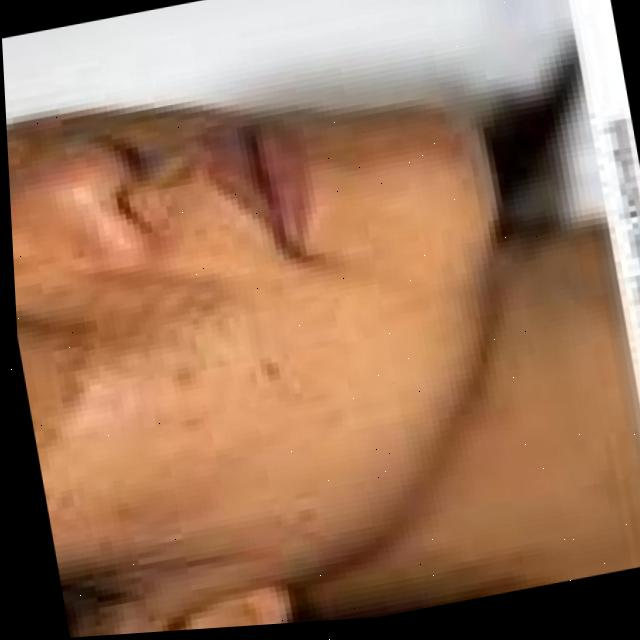Melasma: (5, 83, 261, 427)
